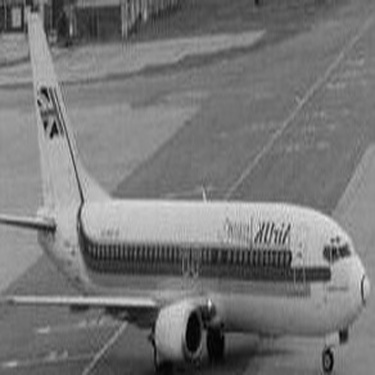airplane: (7, 8, 368, 371)
